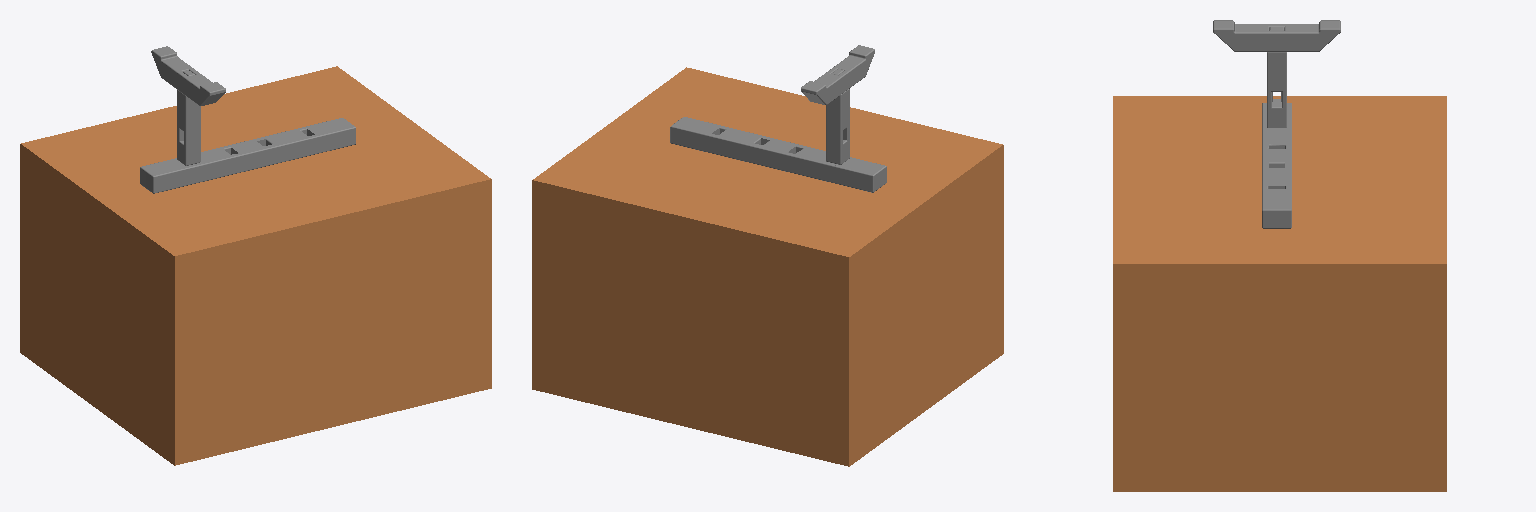
robot.urdf — table_beam_2x_3_scene_0099:
<?xml version="1.0"?>
<robot name="table_beam_2x_3_scene_0099">
  <link name="box">
    <visual>
      <material name="wood"><color rgba="0.82 0.56 0.35 1.0"/></material>
      <origin xyz="0 0 0"/>
      <geometry><box size="0.475 0.4 0.3"/></geometry>
    </visual>
    <collision>
      <origin xyz="0 0 0"/>
      <geometry><box size="0.475 0.4 0.3"/></geometry>
    </collision>
    <inertial>
      <mass value="500"/>
      <friction value="1.0"/>
      <inertia ixx="1000.0" ixy="0.0" ixz="0.0" iyy="1000.0" iyz="0.0" izz="1000.0"/>
    </inertial>
  </link>
  <link name="part_6_hull_0">
    <visual>
      <origin xyz="0 0 0" rpy="0 0 0"/>
      <geometry><mesh filename="../../6/coacd/decomp_0.obj" scale="1 1 1"/></geometry>
      <material name="placed_0"><color rgba="0.6 0.6 0.6 1.0"/></material>
    </visual>
    <collision>
      <origin xyz="0 0 0" rpy="0 0 0"/>
      <geometry><mesh filename="../../6/coacd/decomp_0.obj" scale="1 1 1"/></geometry>
    </collision>
  </link>
  <joint name="part_6_hull_0_joint" type="fixed">
    <parent link="box"/>
    <child link="part_6_hull_0"/>
    <origin xyz="-0.013805 -0.003600 0.162666" rpy="0.000000 0.000000 0.000000"/>
  </joint>
  <link name="part_6_hull_1">
    <visual>
      <origin xyz="0 0 0" rpy="0 0 0"/>
      <geometry><mesh filename="../../6/coacd/decomp_1.obj" scale="1 1 1"/></geometry>
      <material name="placed_1"><color rgba="0.6 0.6 0.6 1.0"/></material>
    </visual>
    <collision>
      <origin xyz="0 0 0" rpy="0 0 0"/>
      <geometry><mesh filename="../../6/coacd/decomp_1.obj" scale="1 1 1"/></geometry>
    </collision>
  </link>
  <joint name="part_6_hull_1_joint" type="fixed">
    <parent link="box"/>
    <child link="part_6_hull_1"/>
    <origin xyz="-0.013805 -0.003600 0.162666" rpy="0.000000 0.000000 0.000000"/>
  </joint>
  <link name="part_6_hull_2">
    <visual>
      <origin xyz="0 0 0" rpy="0 0 0"/>
      <geometry><mesh filename="../../6/coacd/decomp_10.obj" scale="1 1 1"/></geometry>
      <material name="placed_2"><color rgba="0.6 0.6 0.6 1.0"/></material>
    </visual>
    <collision>
      <origin xyz="0 0 0" rpy="0 0 0"/>
      <geometry><mesh filename="../../6/coacd/decomp_10.obj" scale="1 1 1"/></geometry>
    </collision>
  </link>
  <joint name="part_6_hull_2_joint" type="fixed">
    <parent link="box"/>
    <child link="part_6_hull_2"/>
    <origin xyz="-0.013805 -0.003600 0.162666" rpy="0.000000 0.000000 0.000000"/>
  </joint>
  <link name="part_6_hull_3">
    <visual>
      <origin xyz="0 0 0" rpy="0 0 0"/>
      <geometry><mesh filename="../../6/coacd/decomp_11.obj" scale="1 1 1"/></geometry>
      <material name="placed_3"><color rgba="0.6 0.6 0.6 1.0"/></material>
    </visual>
    <collision>
      <origin xyz="0 0 0" rpy="0 0 0"/>
      <geometry><mesh filename="../../6/coacd/decomp_11.obj" scale="1 1 1"/></geometry>
    </collision>
  </link>
  <joint name="part_6_hull_3_joint" type="fixed">
    <parent link="box"/>
    <child link="part_6_hull_3"/>
    <origin xyz="-0.013805 -0.003600 0.162666" rpy="0.000000 0.000000 0.000000"/>
  </joint>
  <link name="part_6_hull_4">
    <visual>
      <origin xyz="0 0 0" rpy="0 0 0"/>
      <geometry><mesh filename="../../6/coacd/decomp_12.obj" scale="1 1 1"/></geometry>
      <material name="placed_4"><color rgba="0.6 0.6 0.6 1.0"/></material>
    </visual>
    <collision>
      <origin xyz="0 0 0" rpy="0 0 0"/>
      <geometry><mesh filename="../../6/coacd/decomp_12.obj" scale="1 1 1"/></geometry>
    </collision>
  </link>
  <joint name="part_6_hull_4_joint" type="fixed">
    <parent link="box"/>
    <child link="part_6_hull_4"/>
    <origin xyz="-0.013805 -0.003600 0.162666" rpy="0.000000 0.000000 0.000000"/>
  </joint>
  <link name="part_6_hull_5">
    <visual>
      <origin xyz="0 0 0" rpy="0 0 0"/>
      <geometry><mesh filename="../../6/coacd/decomp_13.obj" scale="1 1 1"/></geometry>
      <material name="placed_5"><color rgba="0.6 0.6 0.6 1.0"/></material>
    </visual>
    <collision>
      <origin xyz="0 0 0" rpy="0 0 0"/>
      <geometry><mesh filename="../../6/coacd/decomp_13.obj" scale="1 1 1"/></geometry>
    </collision>
  </link>
  <joint name="part_6_hull_5_joint" type="fixed">
    <parent link="box"/>
    <child link="part_6_hull_5"/>
    <origin xyz="-0.013805 -0.003600 0.162666" rpy="0.000000 0.000000 0.000000"/>
  </joint>
  <link name="part_6_hull_6">
    <visual>
      <origin xyz="0 0 0" rpy="0 0 0"/>
      <geometry><mesh filename="../../6/coacd/decomp_2.obj" scale="1 1 1"/></geometry>
      <material name="placed_6"><color rgba="0.6 0.6 0.6 1.0"/></material>
    </visual>
    <collision>
      <origin xyz="0 0 0" rpy="0 0 0"/>
      <geometry><mesh filename="../../6/coacd/decomp_2.obj" scale="1 1 1"/></geometry>
    </collision>
  </link>
  <joint name="part_6_hull_6_joint" type="fixed">
    <parent link="box"/>
    <child link="part_6_hull_6"/>
    <origin xyz="-0.013805 -0.003600 0.162666" rpy="0.000000 0.000000 0.000000"/>
  </joint>
  <link name="part_6_hull_7">
    <visual>
      <origin xyz="0 0 0" rpy="0 0 0"/>
      <geometry><mesh filename="../../6/coacd/decomp_3.obj" scale="1 1 1"/></geometry>
      <material name="placed_7"><color rgba="0.6 0.6 0.6 1.0"/></material>
    </visual>
    <collision>
      <origin xyz="0 0 0" rpy="0 0 0"/>
      <geometry><mesh filename="../../6/coacd/decomp_3.obj" scale="1 1 1"/></geometry>
    </collision>
  </link>
  <joint name="part_6_hull_7_joint" type="fixed">
    <parent link="box"/>
    <child link="part_6_hull_7"/>
    <origin xyz="-0.013805 -0.003600 0.162666" rpy="0.000000 0.000000 0.000000"/>
  </joint>
  <link name="part_6_hull_8">
    <visual>
      <origin xyz="0 0 0" rpy="0 0 0"/>
      <geometry><mesh filename="../../6/coacd/decomp_4.obj" scale="1 1 1"/></geometry>
      <material name="placed_8"><color rgba="0.6 0.6 0.6 1.0"/></material>
    </visual>
    <collision>
      <origin xyz="0 0 0" rpy="0 0 0"/>
      <geometry><mesh filename="../../6/coacd/decomp_4.obj" scale="1 1 1"/></geometry>
    </collision>
  </link>
  <joint name="part_6_hull_8_joint" type="fixed">
    <parent link="box"/>
    <child link="part_6_hull_8"/>
    <origin xyz="-0.013805 -0.003600 0.162666" rpy="0.000000 0.000000 0.000000"/>
  </joint>
  <link name="part_6_hull_9">
    <visual>
      <origin xyz="0 0 0" rpy="0 0 0"/>
      <geometry><mesh filename="../../6/coacd/decomp_5.obj" scale="1 1 1"/></geometry>
      <material name="placed_9"><color rgba="0.6 0.6 0.6 1.0"/></material>
    </visual>
    <collision>
      <origin xyz="0 0 0" rpy="0 0 0"/>
      <geometry><mesh filename="../../6/coacd/decomp_5.obj" scale="1 1 1"/></geometry>
    </collision>
  </link>
  <joint name="part_6_hull_9_joint" type="fixed">
    <parent link="box"/>
    <child link="part_6_hull_9"/>
    <origin xyz="-0.013805 -0.003600 0.162666" rpy="0.000000 0.000000 0.000000"/>
  </joint>
  <link name="part_6_hull_10">
    <visual>
      <origin xyz="0 0 0" rpy="0 0 0"/>
      <geometry><mesh filename="../../6/coacd/decomp_6.obj" scale="1 1 1"/></geometry>
      <material name="placed_10"><color rgba="0.6 0.6 0.6 1.0"/></material>
    </visual>
    <collision>
      <origin xyz="0 0 0" rpy="0 0 0"/>
      <geometry><mesh filename="../../6/coacd/decomp_6.obj" scale="1 1 1"/></geometry>
    </collision>
  </link>
  <joint name="part_6_hull_10_joint" type="fixed">
    <parent link="box"/>
    <child link="part_6_hull_10"/>
    <origin xyz="-0.013805 -0.003600 0.162666" rpy="0.000000 0.000000 0.000000"/>
  </joint>
  <link name="part_6_hull_11">
    <visual>
      <origin xyz="0 0 0" rpy="0 0 0"/>
      <geometry><mesh filename="../../6/coacd/decomp_7.obj" scale="1 1 1"/></geometry>
      <material name="placed_11"><color rgba="0.6 0.6 0.6 1.0"/></material>
    </visual>
    <collision>
      <origin xyz="0 0 0" rpy="0 0 0"/>
      <geometry><mesh filename="../../6/coacd/decomp_7.obj" scale="1 1 1"/></geometry>
    </collision>
  </link>
  <joint name="part_6_hull_11_joint" type="fixed">
    <parent link="box"/>
    <child link="part_6_hull_11"/>
    <origin xyz="-0.013805 -0.003600 0.162666" rpy="0.000000 0.000000 0.000000"/>
  </joint>
  <link name="part_6_hull_12">
    <visual>
      <origin xyz="0 0 0" rpy="0 0 0"/>
      <geometry><mesh filename="../../6/coacd/decomp_8.obj" scale="1 1 1"/></geometry>
      <material name="placed_12"><color rgba="0.6 0.6 0.6 1.0"/></material>
    </visual>
    <collision>
      <origin xyz="0 0 0" rpy="0 0 0"/>
      <geometry><mesh filename="../../6/coacd/decomp_8.obj" scale="1 1 1"/></geometry>
    </collision>
  </link>
  <joint name="part_6_hull_12_joint" type="fixed">
    <parent link="box"/>
    <child link="part_6_hull_12"/>
    <origin xyz="-0.013805 -0.003600 0.162666" rpy="0.000000 0.000000 0.000000"/>
  </joint>
  <link name="part_6_hull_13">
    <visual>
      <origin xyz="0 0 0" rpy="0 0 0"/>
      <geometry><mesh filename="../../6/coacd/decomp_9.obj" scale="1 1 1"/></geometry>
      <material name="placed_13"><color rgba="0.6 0.6 0.6 1.0"/></material>
    </visual>
    <collision>
      <origin xyz="0 0 0" rpy="0 0 0"/>
      <geometry><mesh filename="../../6/coacd/decomp_9.obj" scale="1 1 1"/></geometry>
    </collision>
  </link>
  <joint name="part_6_hull_13_joint" type="fixed">
    <parent link="box"/>
    <child link="part_6_hull_13"/>
    <origin xyz="-0.013805 -0.003600 0.162666" rpy="0.000000 0.000000 0.000000"/>
  </joint>
  <link name="part_2_canonical">
    <visual>
      <origin xyz="0 0 0" rpy="0 0 0"/>
      <geometry><mesh filename="../../2/2_canonical.obj" scale="1 1 1"/></geometry>
      <material name="placed_14"><color rgba="0.6 0.6 0.6 1.0"/></material>
    </visual>
    <collision>
      <origin xyz="0 0 0" rpy="0 0 0"/>
      <geometry><mesh filename="../../2/2_canonical.obj" scale="1 1 1"/></geometry>
    </collision>
  </link>
  <joint name="part_2_canonical_joint" type="fixed">
    <parent link="box"/>
    <child link="part_2_canonical"/>
    <origin xyz="-0.102732 -0.003600 0.225384" rpy="0.000000 -1.570796 0.000000"/>
  </joint>
  <link name="part_0_canonical">
    <visual>
      <origin xyz="0 0 0" rpy="0 0 0"/>
      <geometry><mesh filename="../../0/0_canonical.obj" scale="1 1 1"/></geometry>
      <material name="placed_15"><color rgba="0.6 0.6 0.6 1.0"/></material>
    </visual>
    <collision>
      <origin xyz="0 0 0" rpy="0 0 0"/>
      <geometry><mesh filename="../../0/0_canonical.obj" scale="1 1 1"/></geometry>
    </collision>
  </link>
  <joint name="part_0_canonical_joint" type="fixed">
    <parent link="box"/>
    <child link="part_0_canonical"/>
    <origin xyz="-0.102705 -0.003600 0.292243" rpy="1.570796 0.000000 -1.570796"/>
  </joint>
</robot>

--- What the picture shows (computed from the rendered views, not written in the file) ---
3 views of the same robot in one strip: view 1: azimuth 30°, elevation 25°; view 2: azimuth 150°, elevation 25°; view 3: azimuth 270°, elevation 25° (orthographic).
Robot: table_beam_2x_3_scene_0099 — 17 links, 16 joints (16 fixed); root link box; default pose: every joint at zero.
Visible links, largest first — view 1: box, part_0_canonical, part_2_canonical, part_6_hull_1, part_6_hull_0, part_6_hull_9, part_6_hull_5, part_6_hull_3; view 2: box, part_0_canonical, part_2_canonical, part_6_hull_1, part_6_hull_0, part_6_hull_2, part_6_hull_5, part_6_hull_12; view 3: box, part_0_canonical, part_2_canonical, part_6_hull_0.
Boxes of the visible links, x1,y1,x2,y2 form: box: (20,66,491,465); part_0_canonical: (151,46,225,105); part_2_canonical: (177,70,200,165); part_6_hull_1: (140,158,191,193); part_6_hull_0: (305,118,355,153); part_6_hull_9: (190,153,241,183); part_6_hull_5: (271,129,310,161); part_6_hull_3: (243,142,283,171); box: (532,67,1003,466); part_0_canonical: (801,45,874,104); part_2_canonical: (826,69,849,164); part_6_hull_1: (835,157,886,192); part_6_hull_0: (670,117,720,152); part_6_hull_2: (792,149,829,181); part_6_hull_5: (716,128,754,160); part_6_hull_12: (743,141,783,169); box: (1113,96,1446,491); part_0_canonical: (1213,20,1340,51); part_2_canonical: (1267,27,1286,127); part_6_hull_0: (1262,189,1291,228).
Size in the robot's own frame: 0.475 by 0.4 by 0.4575 metres.
16 mesh visuals loaded from 16 distinct referenced files (16 OBJ).
